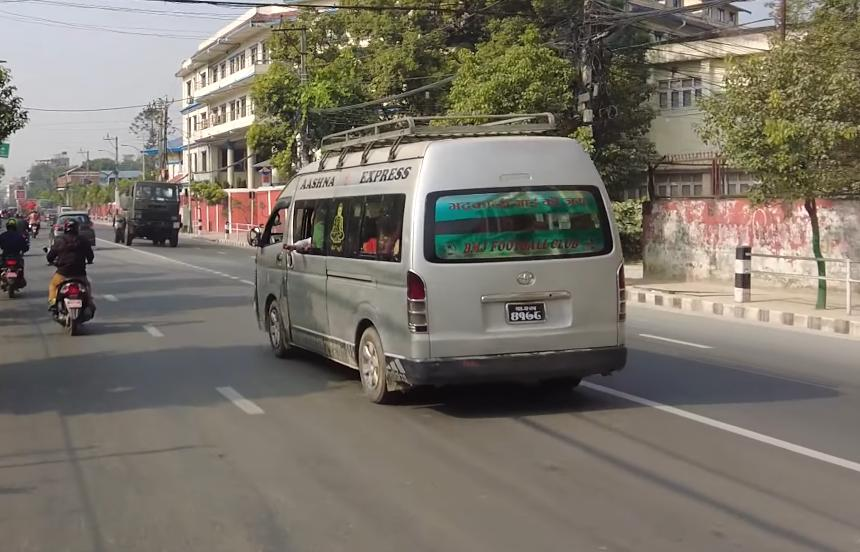micro_bus: (245, 108, 648, 406)
scooter: (47, 256, 102, 338)
